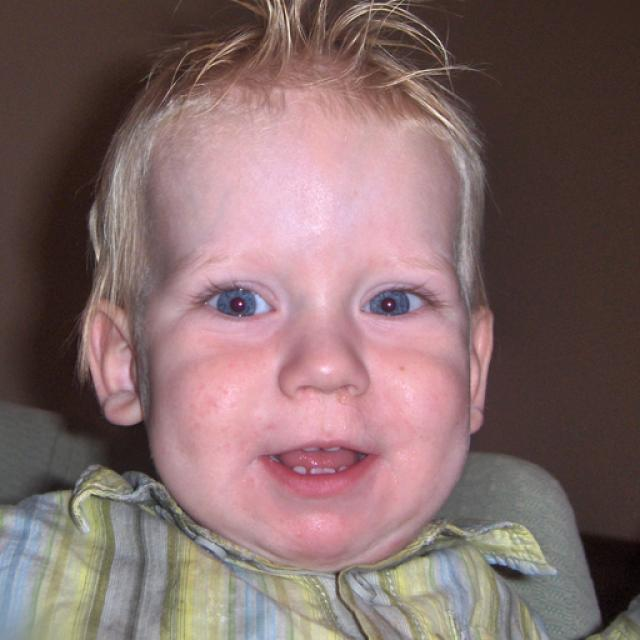fear: (144, 100, 472, 556)
